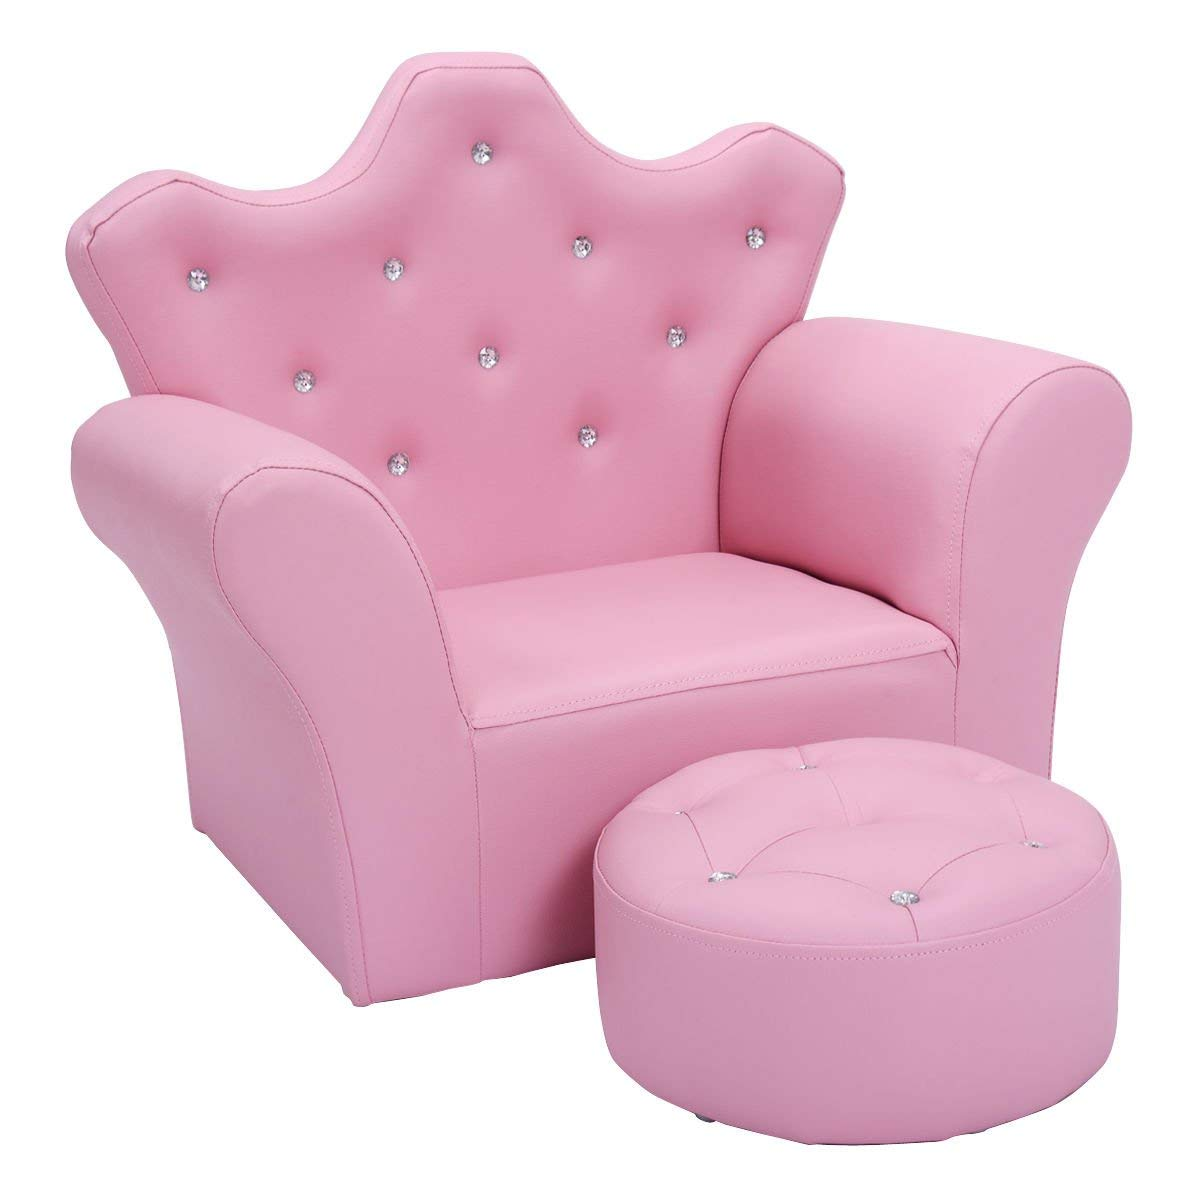chairs: (62, 51, 1135, 1016), (590, 741, 1124, 1149)
